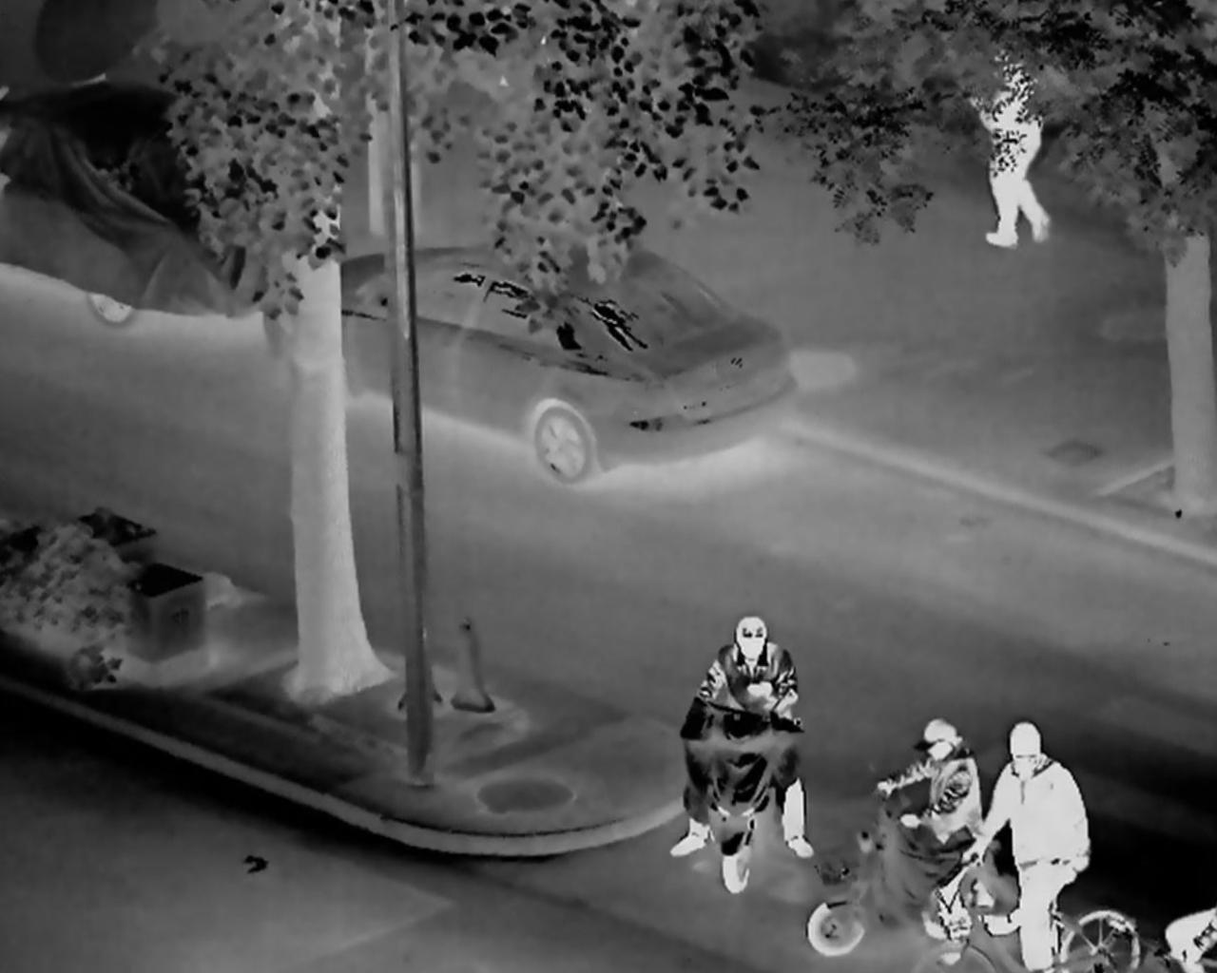person: (658, 609, 821, 867), (865, 713, 1012, 967), (976, 726, 1096, 970), (963, 38, 1067, 257)
